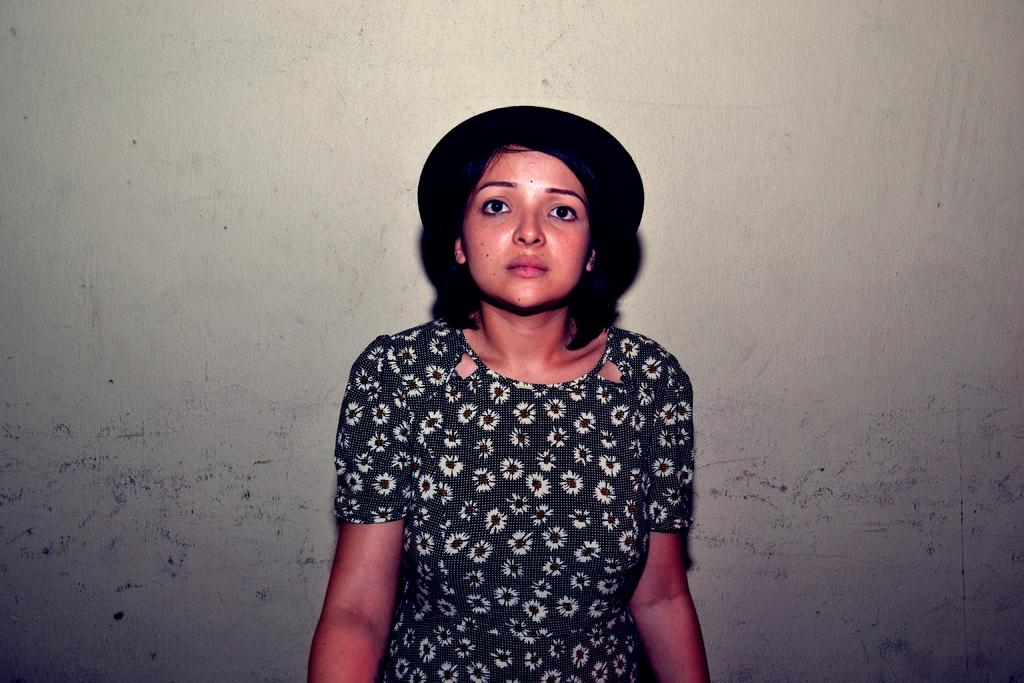Hat: (415, 100, 646, 246)
